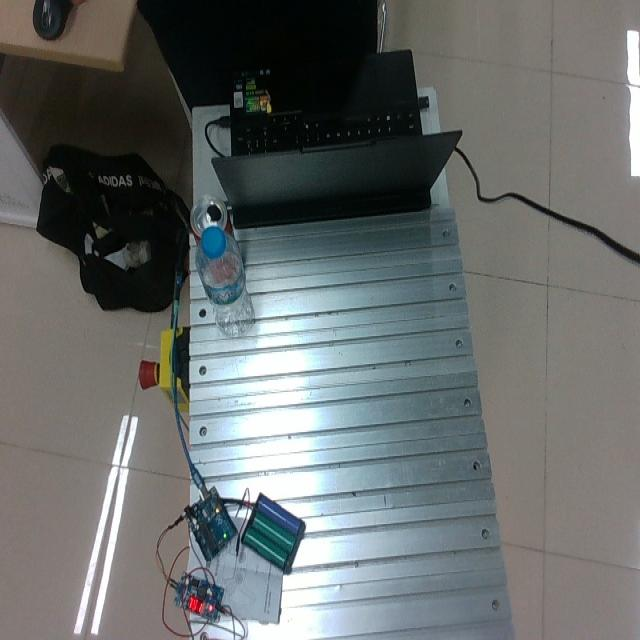coca: (189, 195, 231, 245)
lavie: (196, 220, 255, 336)
